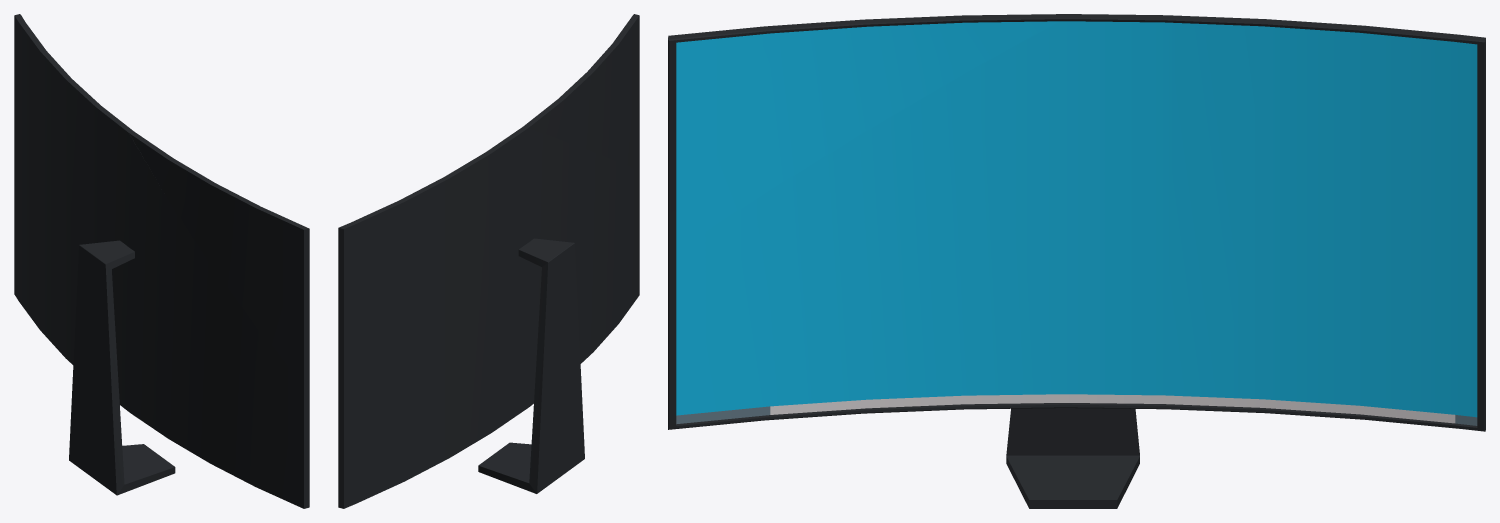
Rendered from Monitor_Broken.fbx.
3 renders of one model, left to right at view 1: azimuth 30°, elevation 25°; view 2: azimuth 150°, elevation 25°; view 3: azimuth 270°, elevation 25°, orthographic. The views are drawn at different scales.
Parts seen in each view (by area): view 1: monitor.001, monitor.003, monitor.002, monitor.004; view 2: monitor.003, monitor.001, monitor.004, monitor.002; view 3: monitor.001, monitor.003, monitor.002, monitor.004.
Boxes of the visible parts, left/top/right/bottom form: monitor.001: left=84, top=102, right=309, bottom=508; monitor.003: left=14, top=14, right=97, bottom=364; monitor.002: left=129, top=131, right=309, bottom=384; monitor.004: left=69, top=240, right=175, bottom=495; monitor.003: left=338, top=155, right=486, bottom=508; monitor.001: left=465, top=127, right=639, bottom=448; monitor.004: left=478, top=238, right=584, bottom=493; monitor.002: left=523, top=14, right=639, bottom=170; monitor.001: left=668, top=14, right=1228, bottom=429; monitor.003: left=1177, top=15, right=1485, bottom=431; monitor.002: left=668, top=14, right=1068, bottom=256; monitor.004: left=1006, top=408, right=1139, bottom=508.
Bounding box in the file's own units: 34.66 × 148 × 232.
